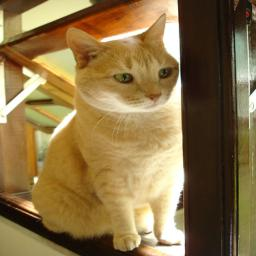catnose: (142, 92, 166, 104)
